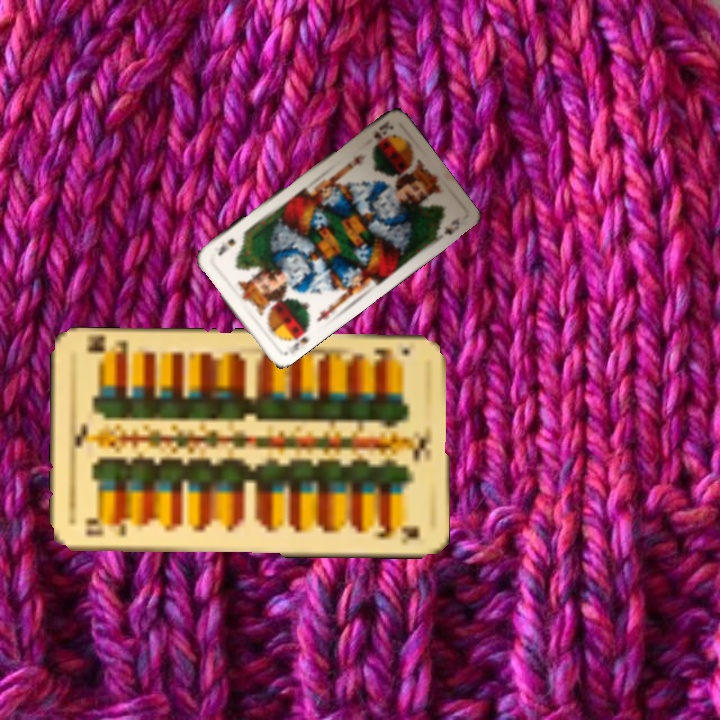E10: (369, 342, 413, 364), (82, 520, 128, 539)
SK: (276, 323, 313, 358), (369, 117, 396, 141)
